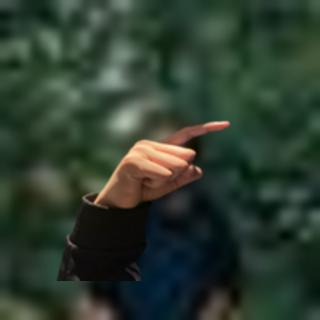WHY: (94, 104, 234, 210)
